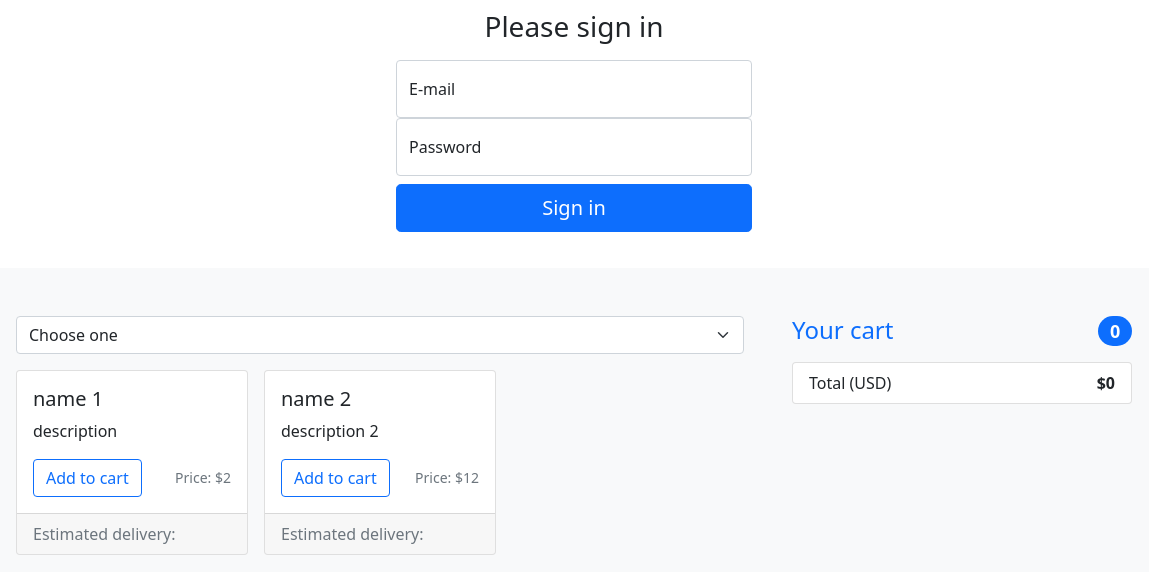
Test: Home component › Removing from cart
The width and height of the screenshot is (1149, 572).
Check: the text with test id "badge" reads "0", box [1110,319,1120,343]
Click the button with test id "addToCart" below "name 1": (87, 478) [33,459,142,497]
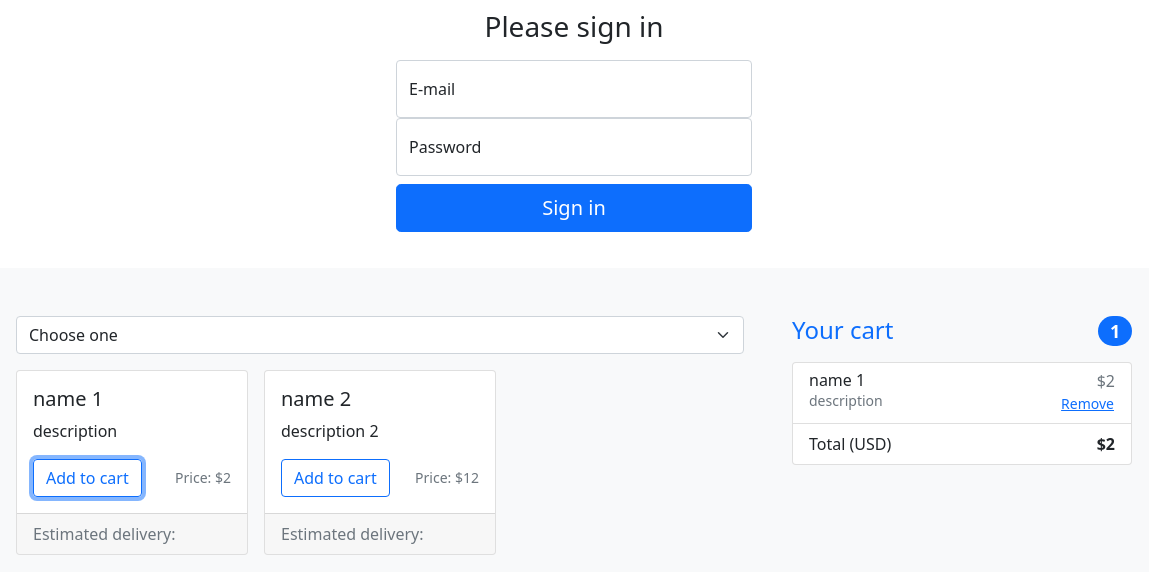
Click the button with test id "addToCart" in the row of "12": (335, 478) [281,459,390,497]
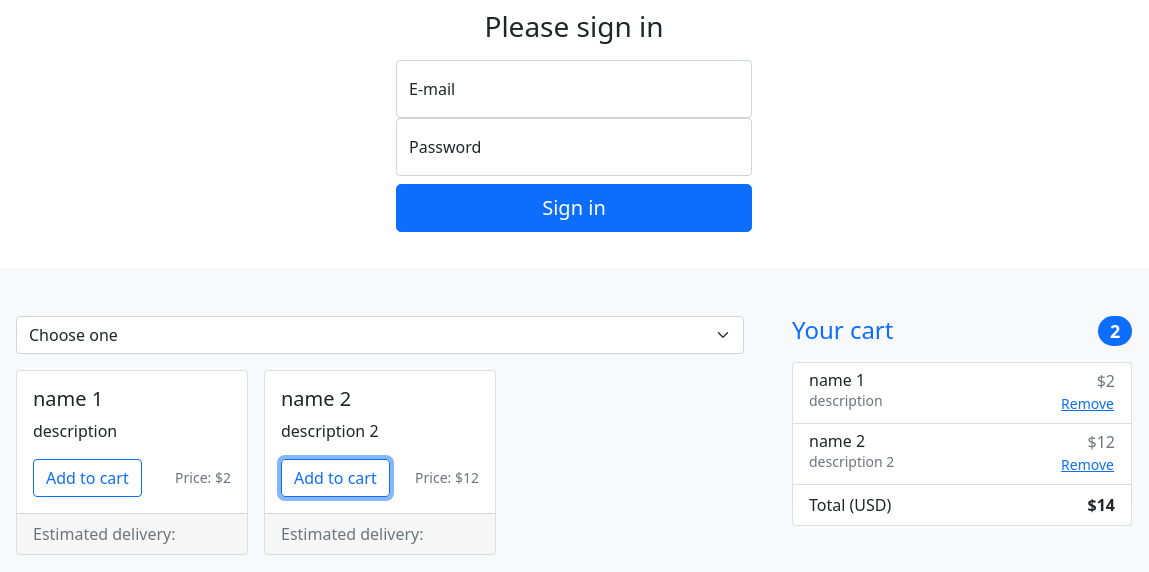
Check: the text with test id "badge" reads "2", box [1110,319,1120,343]
Check: the text with test id "cartTotal" shows "14", box [1097,494,1115,516]
Click the 1st button with test id "removeFromCart": (1088, 403) [1060,392,1115,415]
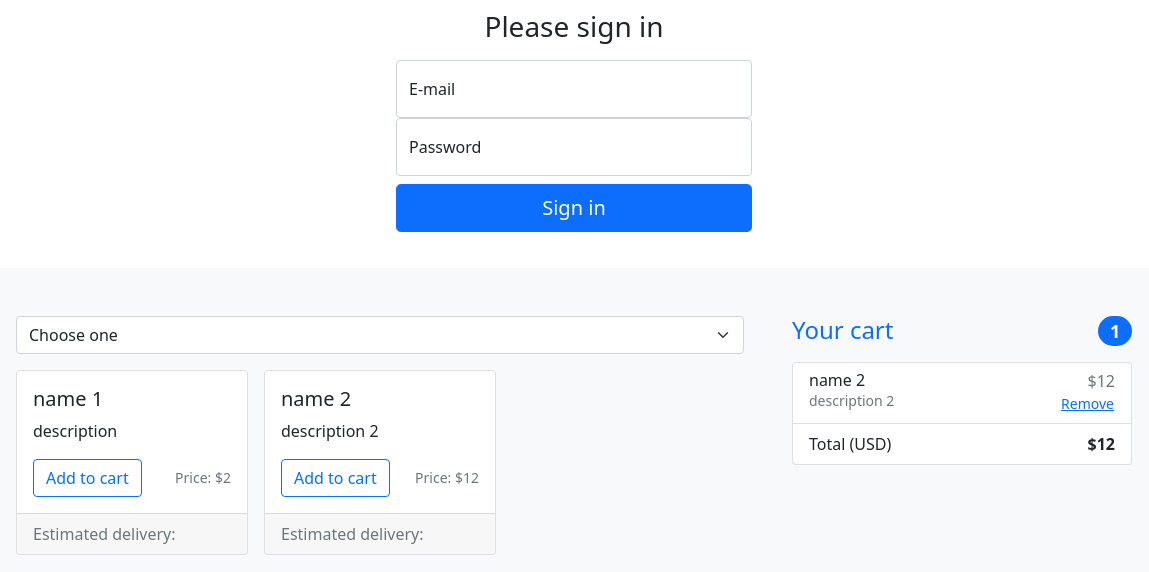
Check: the text with test id "badge" reads "1", box [1110,319,1120,343]
Check: the text with test id "cartTotal" shows "12", box [1097,433,1115,455]
